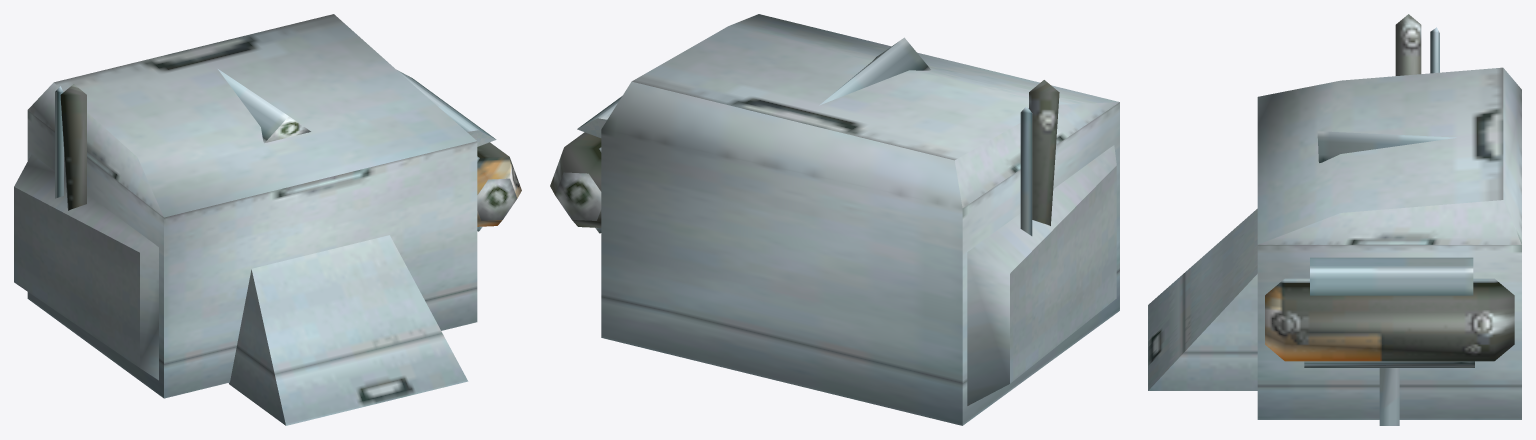
The model's file is eqp_app_substance_analyzer_l1.fbx.
The picture shows the model from 3 angles, left to right: view 1: azimuth 30°, elevation 25°; view 2: azimuth 150°, elevation 25°; view 3: azimuth 270°, elevation 25°; orthographic projection. The views are drawn at different scales.
Parts seen in each view (by area): view 1: mesh_node; view 2: mesh_node; view 3: mesh_node.
Part boxes in pixels (x1,y1,x2,y2): mesh_node: (14, 14, 521, 425); mesh_node: (550, 14, 1119, 425); mesh_node: (1148, 14, 1521, 425).
Size of the model in its own units: 0.2571 by 0.1616 by 0.2153.
Materials: 1 (1 with a texture image).
